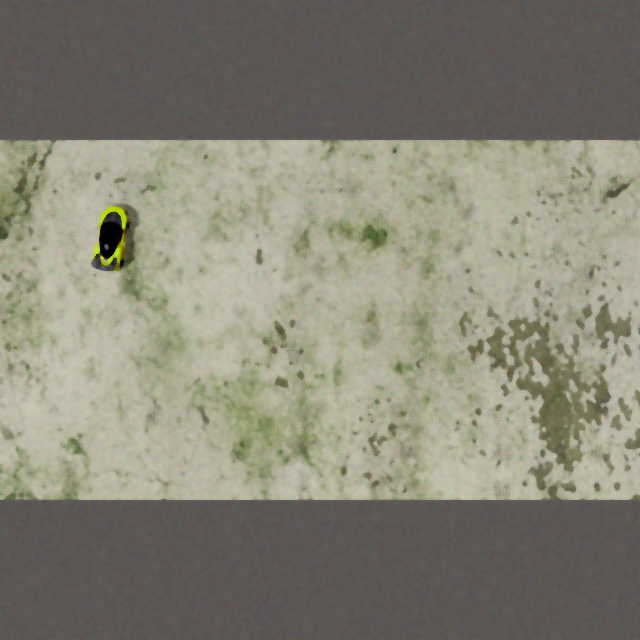car: (87, 201, 133, 274)
